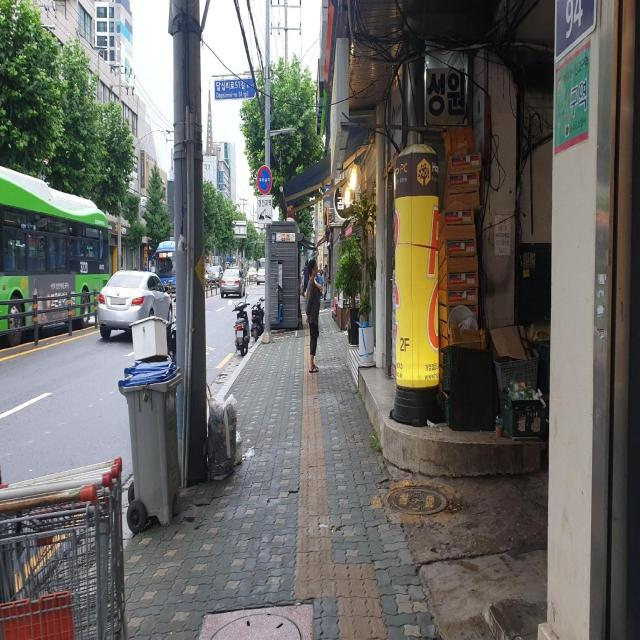dustbin ahead at: (116, 342, 186, 539)
motorcycle ahead at: (230, 298, 252, 362)
person ahead at: (302, 255, 325, 377)
